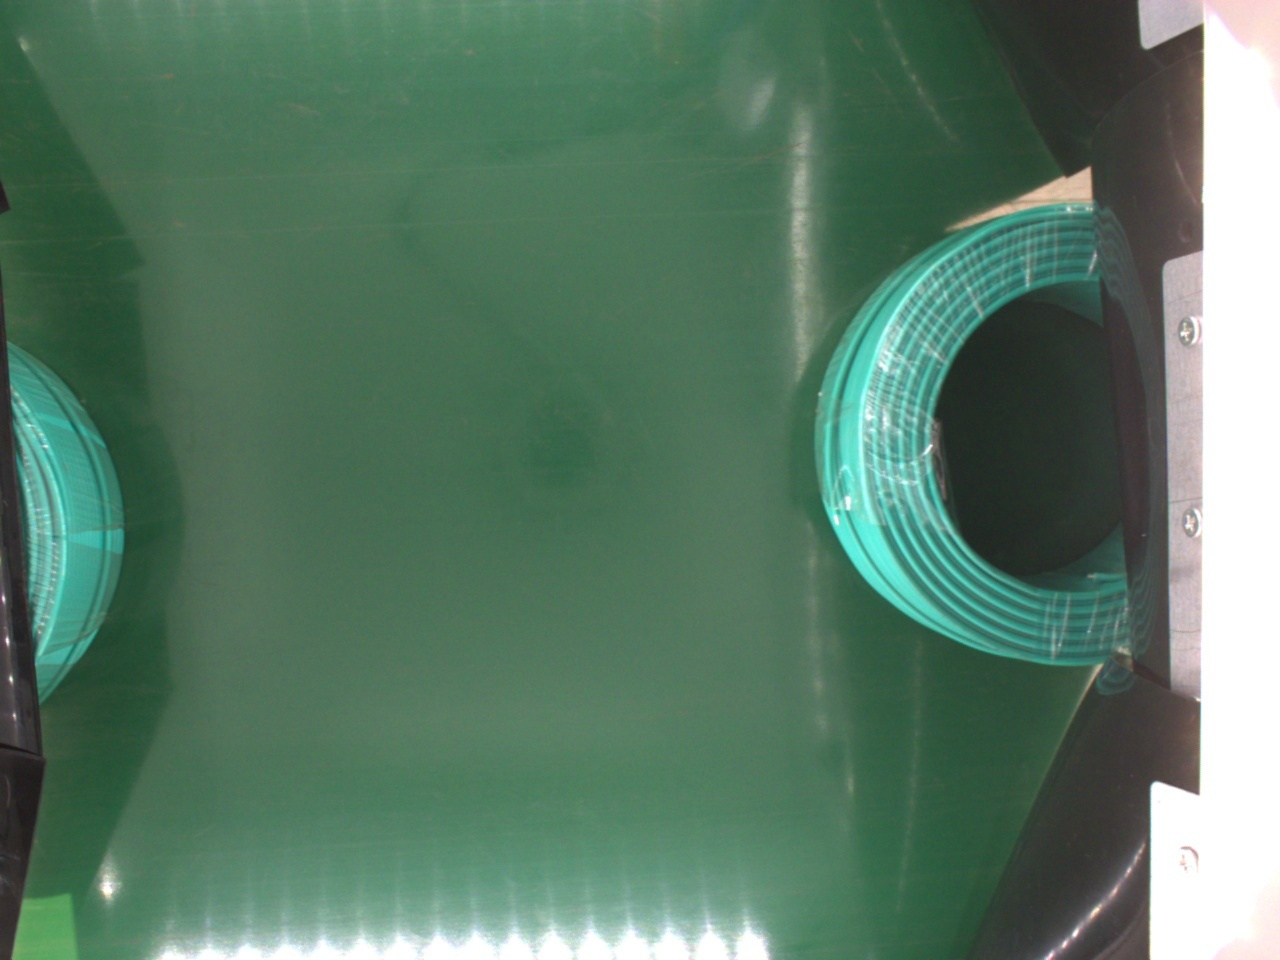green: (815, 205, 1136, 666), (6, 339, 126, 696)
